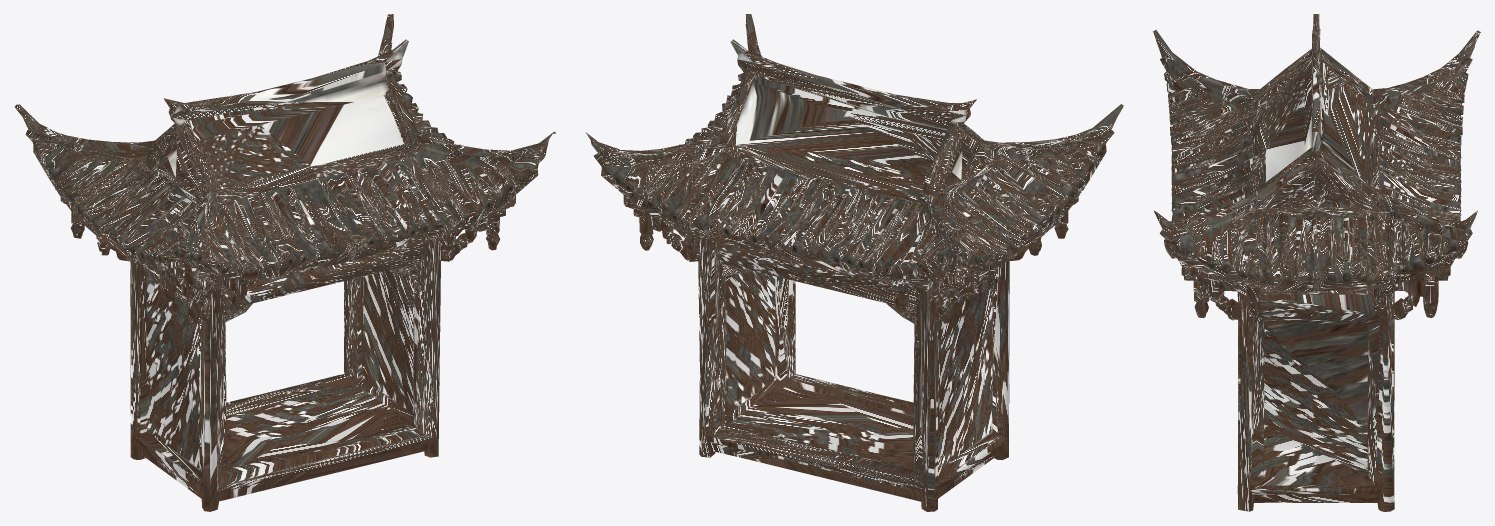
File: lib_wood_pavilion.lod.glb
3 views of the same model, side by side, from view 1: azimuth 30°, elevation 25°; view 2: azimuth 150°, elevation 25°; view 3: azimuth 270°, elevation 25° (orthographic).
Size of the model in its own units: 1.9 by 1.84 by 1.43.
1 material, 1 textured.
